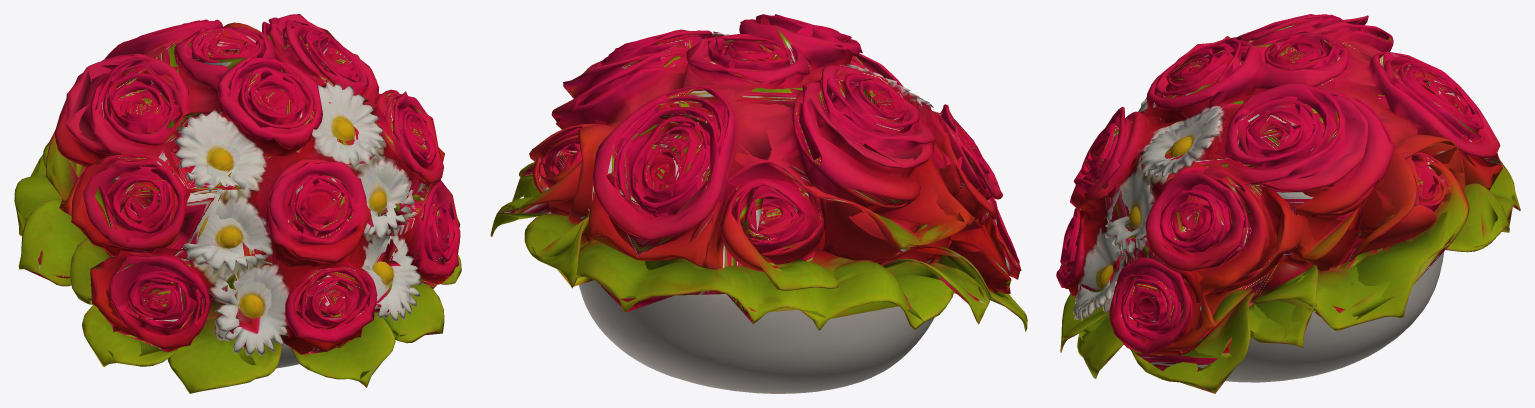
The model's file is w3roses.glb.
The picture shows the model from 3 angles, left to right: view 1: azimuth 30°, elevation 25°; view 2: azimuth 150°, elevation 25°; view 3: azimuth 270°, elevation 25°; orthographic projection. The views are drawn at different scales.
Parts seen in each view (by area): view 1: w3roses_near, w3roses_far; view 2: w3roses_near, w3roses_far; view 3: w3roses_near, w3roses_far.
Boxes of the visible parts, box(x1,y1,x2,y2) form: w3roses_near: box(14, 14, 461, 393); w3roses_far: box(17, 20, 454, 378); w3roses_near: box(490, 14, 1027, 393); w3roses_far: box(497, 14, 1020, 323); w3roses_near: box(1056, 14, 1520, 393); w3roses_far: box(1061, 16, 1518, 393).
Bounding box in the file's own units: 0.46 × 0.3078 × 0.4301.
1 material, 1 textured.
